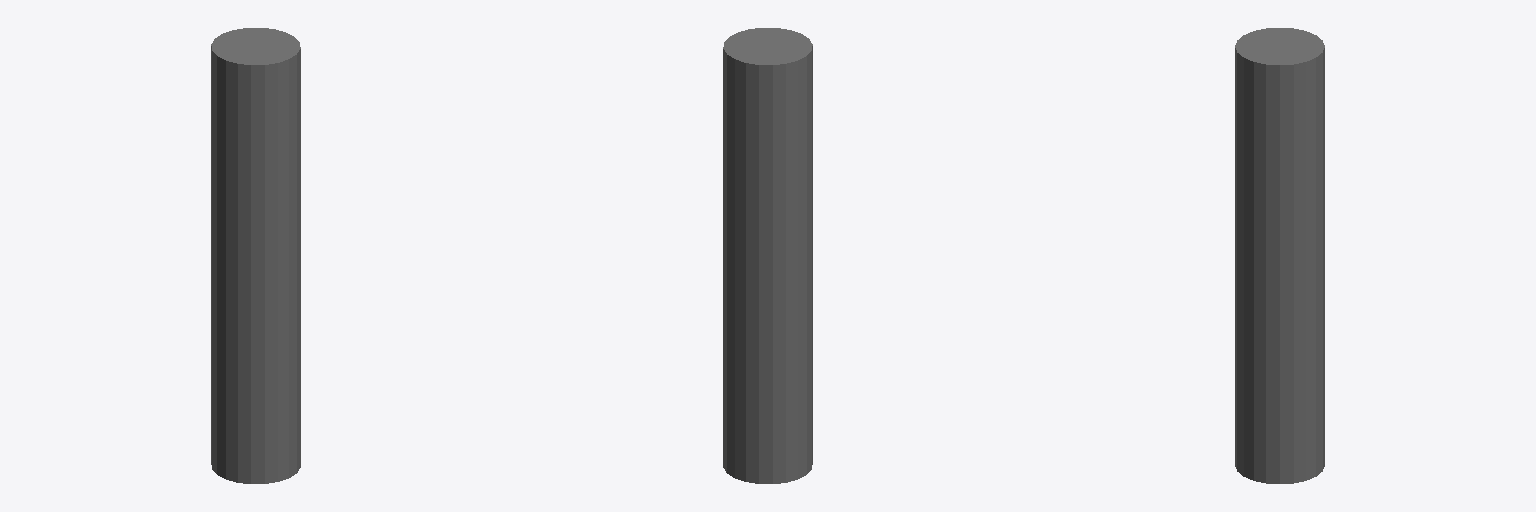
The model's file is cilinder.obj.
3 renders of one model, left to right at view 1: azimuth 30°, elevation 25°; view 2: azimuth 150°, elevation 25°; view 3: azimuth 270°, elevation 25°, orthographic.
Visible parts, largest first — view 1: pCylinder1; view 2: pCylinder1; view 3: pCylinder1.
Boxes of the visible parts, box(x1,y1,x2,y2) form: pCylinder1: box(211, 28, 300, 483); pCylinder1: box(723, 28, 812, 483); pCylinder1: box(1235, 28, 1324, 483).
Bounding box in the file's own units: 7.29 × 37.52 × 7.29.